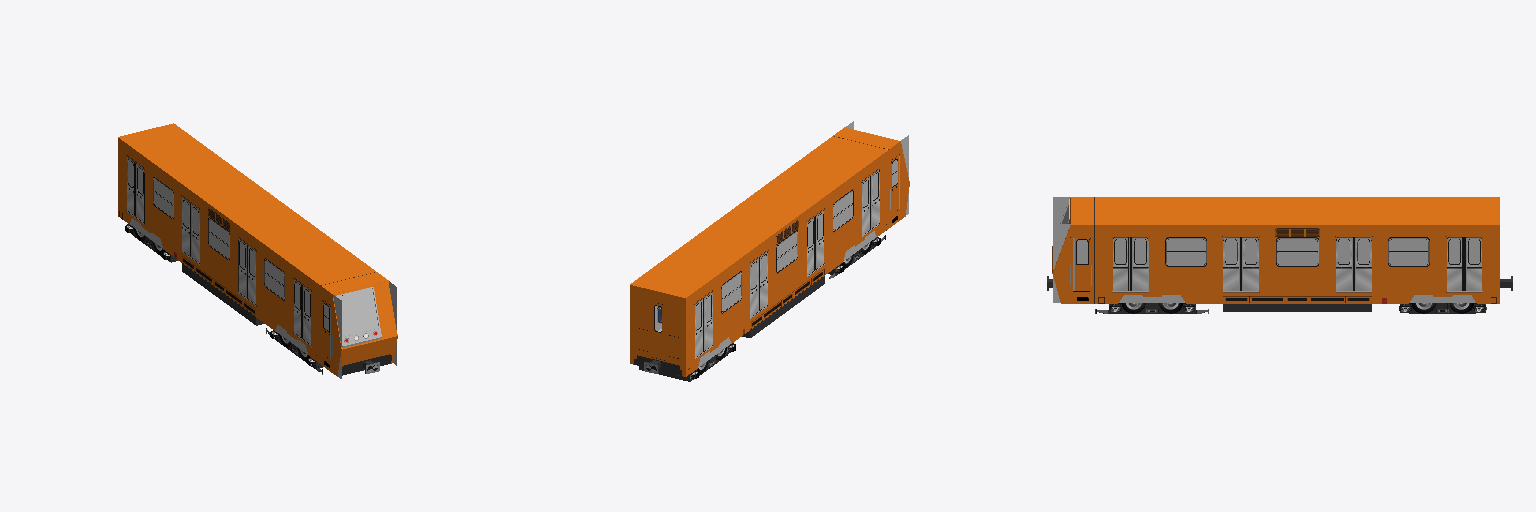
3 views of the same model, side by side, from view 1: azimuth 30°, elevation 25°; view 2: azimuth 150°, elevation 25°; view 3: azimuth 270°, elevation 25° (orthographic).
Visible parts, largest first — view 1: body_ext, body_int, door_LB_ext, door_LF_ext, bogie; view 2: body_ext, body_int, door_LB_ext, door_LF_ext, bogie; view 3: body_ext, body_int, door_RB_ext, door_RF_ext, bogie.
Part boxes in pixels (left/top/right/bottom): body_ext: left=118, top=123, right=397, bottom=376; body_int: left=128, top=160, right=396, bottom=378; door_LB_ext: left=127, top=157, right=302, bottom=338; door_LF_ext: left=136, top=164, right=310, bottom=344; bogie: left=125, top=224, right=379, bottom=374; body_ext: left=630, top=127, right=909, bottom=376; body_int: left=654, top=121, right=908, bottom=367; door_LB_ext: left=695, top=176, right=870, bottom=357; door_LF_ext: left=704, top=170, right=879, bottom=350; bogie: left=639, top=235, right=885, bottom=381; body_ext: left=1052, top=197, right=1499, bottom=311; body_int: left=1053, top=197, right=1479, bottom=302; door_RB_ext: left=1113, top=237, right=1464, bottom=290; door_RF_ext: left=1131, top=237, right=1481, bottom=290; bogie: left=1047, top=276, right=1512, bottom=313.
Bounding box in the file's own units: 2.34 × 3.38 × 15.75.
Materials: 35 (29 with a texture image).